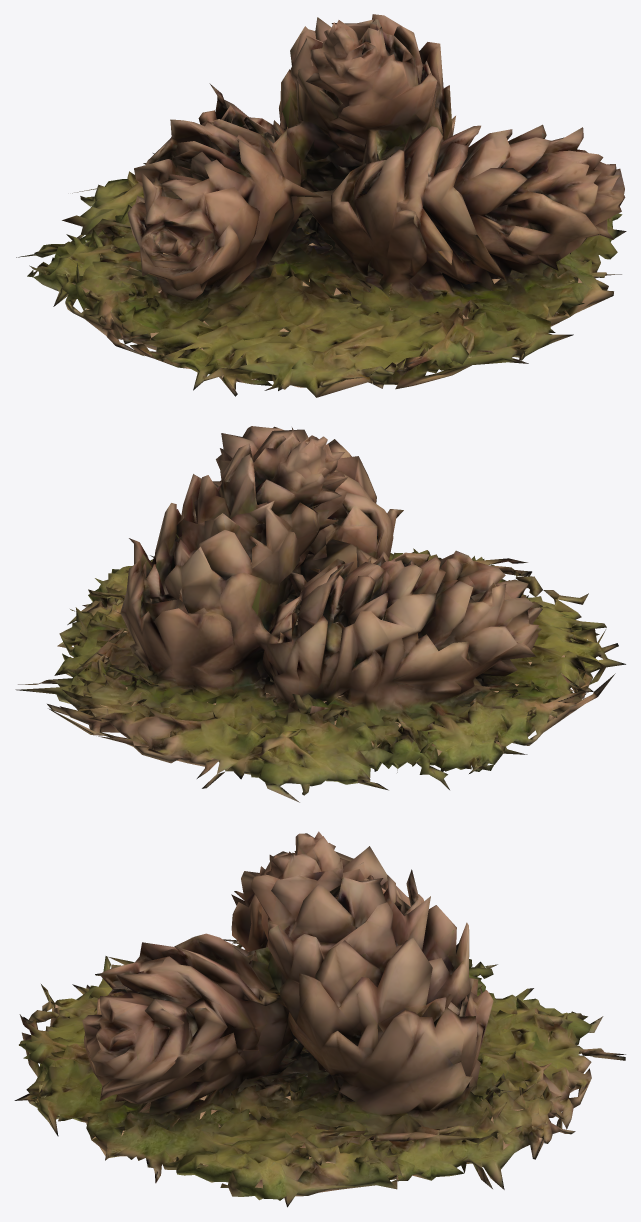
File: pinecone_douglasfir_natural.glb
3 views of the same model, one above another, from view 1: azimuth 30°, elevation 25°; view 2: azimuth 150°, elevation 25°; view 3: azimuth 270°, elevation 25° (orthographic). The views are drawn at different scales.
Bounding box in the file's own units: 1.96 × 0.9303 × 2.
1 material, 1 textured.
